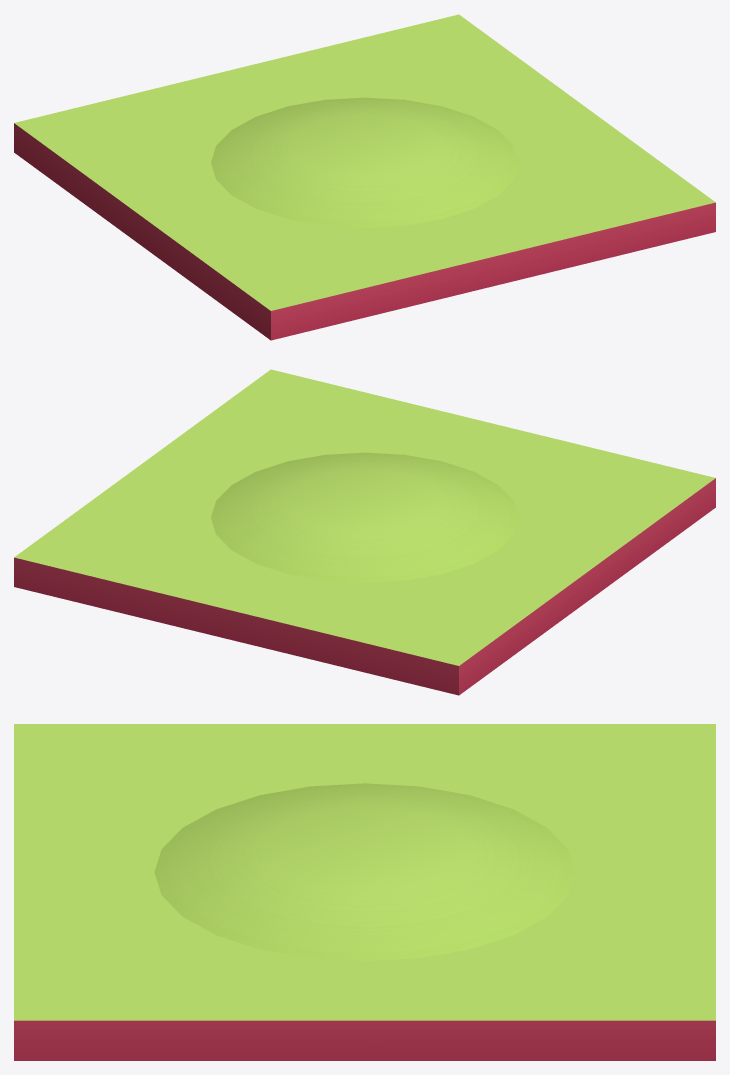
The model's file is bump.fbx.
The picture shows the model from 3 angles, top to bottom: view 1: azimuth 30°, elevation 25°; view 2: azimuth 150°, elevation 25°; view 3: azimuth 270°, elevation 25°; orthographic projection. The views are drawn at different scales.
Visible parts, largest first — view 1: bump; view 2: bump; view 3: bump.
Boxes of the visible parts, x1,y1,x2,y2 form: bump: [14, 14, 715, 340]; bump: [14, 369, 715, 695]; bump: [14, 724, 715, 1060].
Bounding box in the file's own units: 99.99 × 9.67 × 99.99.
Materials: 1 (1 with a texture image).
